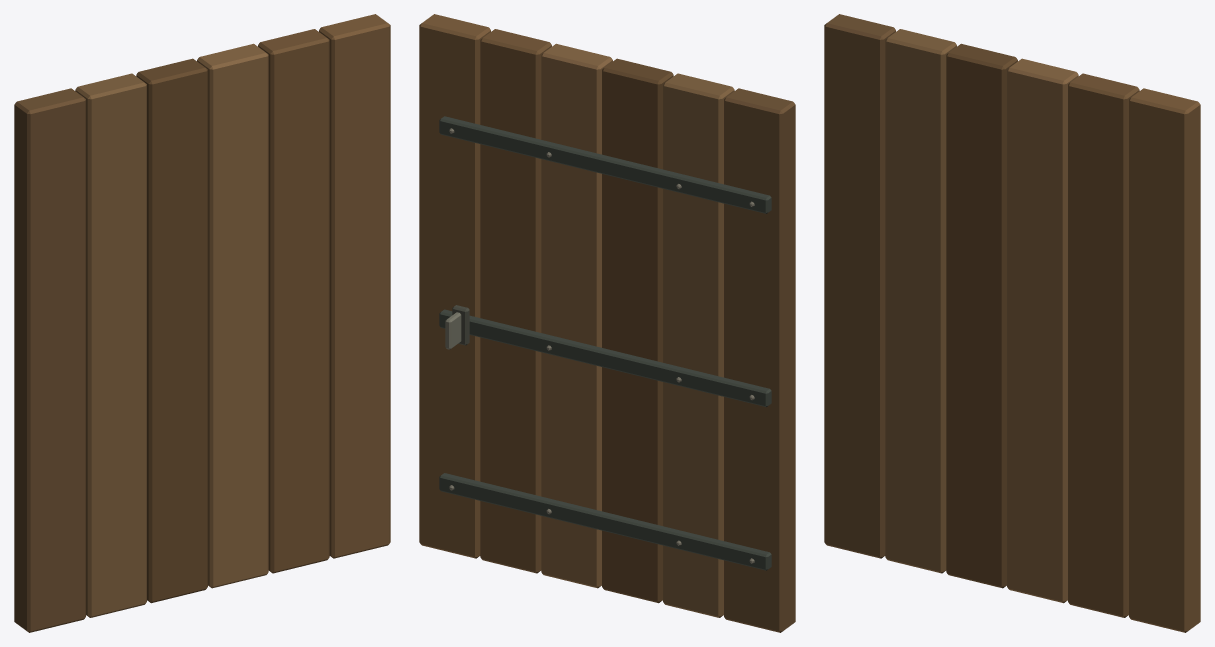
The model's file is Porte_Tour.fbx.
3 views of the same model, side by side, from view 1: azimuth 30°, elevation 25°; view 2: azimuth 150°, elevation 25°; view 3: azimuth 330°, elevation 25° (orthographic).
Visible parts, largest first — view 1: Porte_Planches_Patinees; view 2: Porte_Planches_Patinees, Porte_Ferrures_Poignee; view 3: Porte_Planches_Patinees.
Part boxes in pixels (left/top/right/bottom): Porte_Planches_Patinees: left=14, top=14, right=390, bottom=632; Porte_Planches_Patinees: left=419, top=14, right=795, bottom=632; Porte_Ferrures_Poignee: left=439, top=116, right=771, bottom=570; Porte_Planches_Patinees: left=824, top=14, right=1200, bottom=632.
Size of the model in its own units: 179 by 246 by 30.5.
